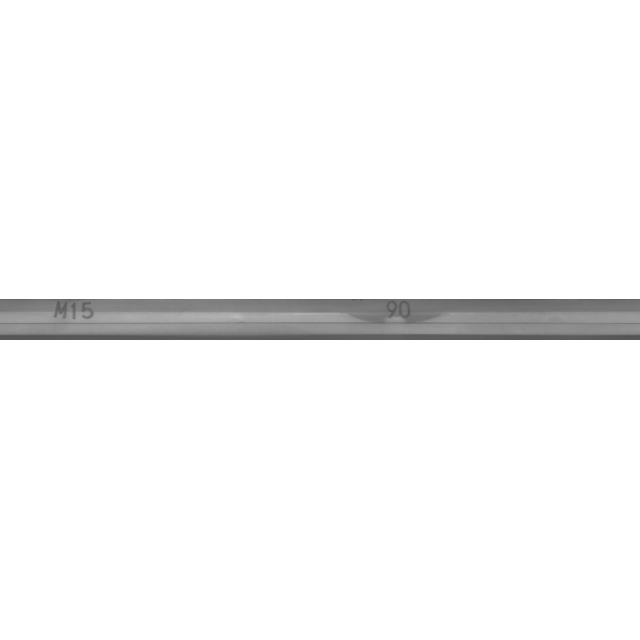mohao: (0, 270, 173, 370)
xuehao: (298, 270, 498, 370)
